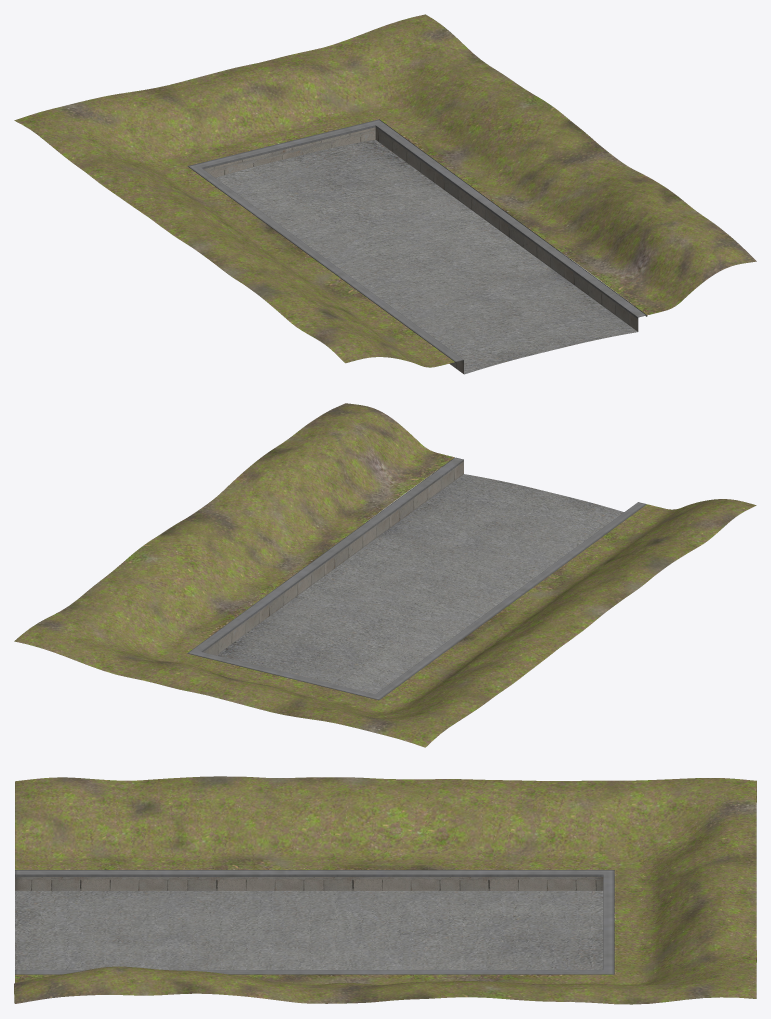
The model's file is sunken_driveway_parking_spot.glb.
3 renders of one model, top to bottom at view 1: azimuth 30°, elevation 25°; view 2: azimuth 150°, elevation 25°; view 3: azimuth 270°, elevation 25°, orthographic. The views are drawn at different scales.
Parts seen in each view (by area): view 1: Object_2, Object_4, Object_3; view 2: Object_2, Object_4, Object_3; view 3: Object_2, Object_4, Object_3.
Boxes of the visible parts, box(x1,y1,x2,y2) form: Object_2: box(14, 14, 683, 367); Object_4: box(187, 119, 647, 374); Object_3: box(91, 176, 756, 367); Object_2: box(14, 447, 756, 747); Object_4: box(187, 457, 646, 700); Object_3: box(275, 403, 730, 691); Object_2: box(15, 776, 756, 1004); Object_4: box(15, 870, 614, 974); Object_3: box(14, 776, 584, 1003).
Bounding box in the file's own units: 10.08 × 1.27 × 14.08.
1 material, 1 textured.
